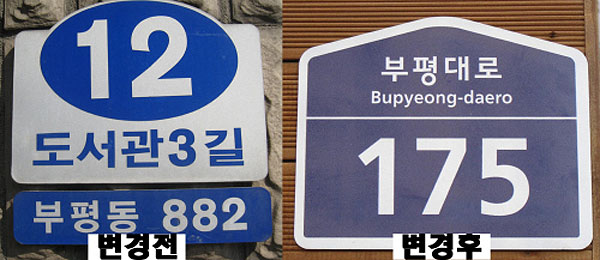building_license_plate1: (294, 15, 593, 249)
